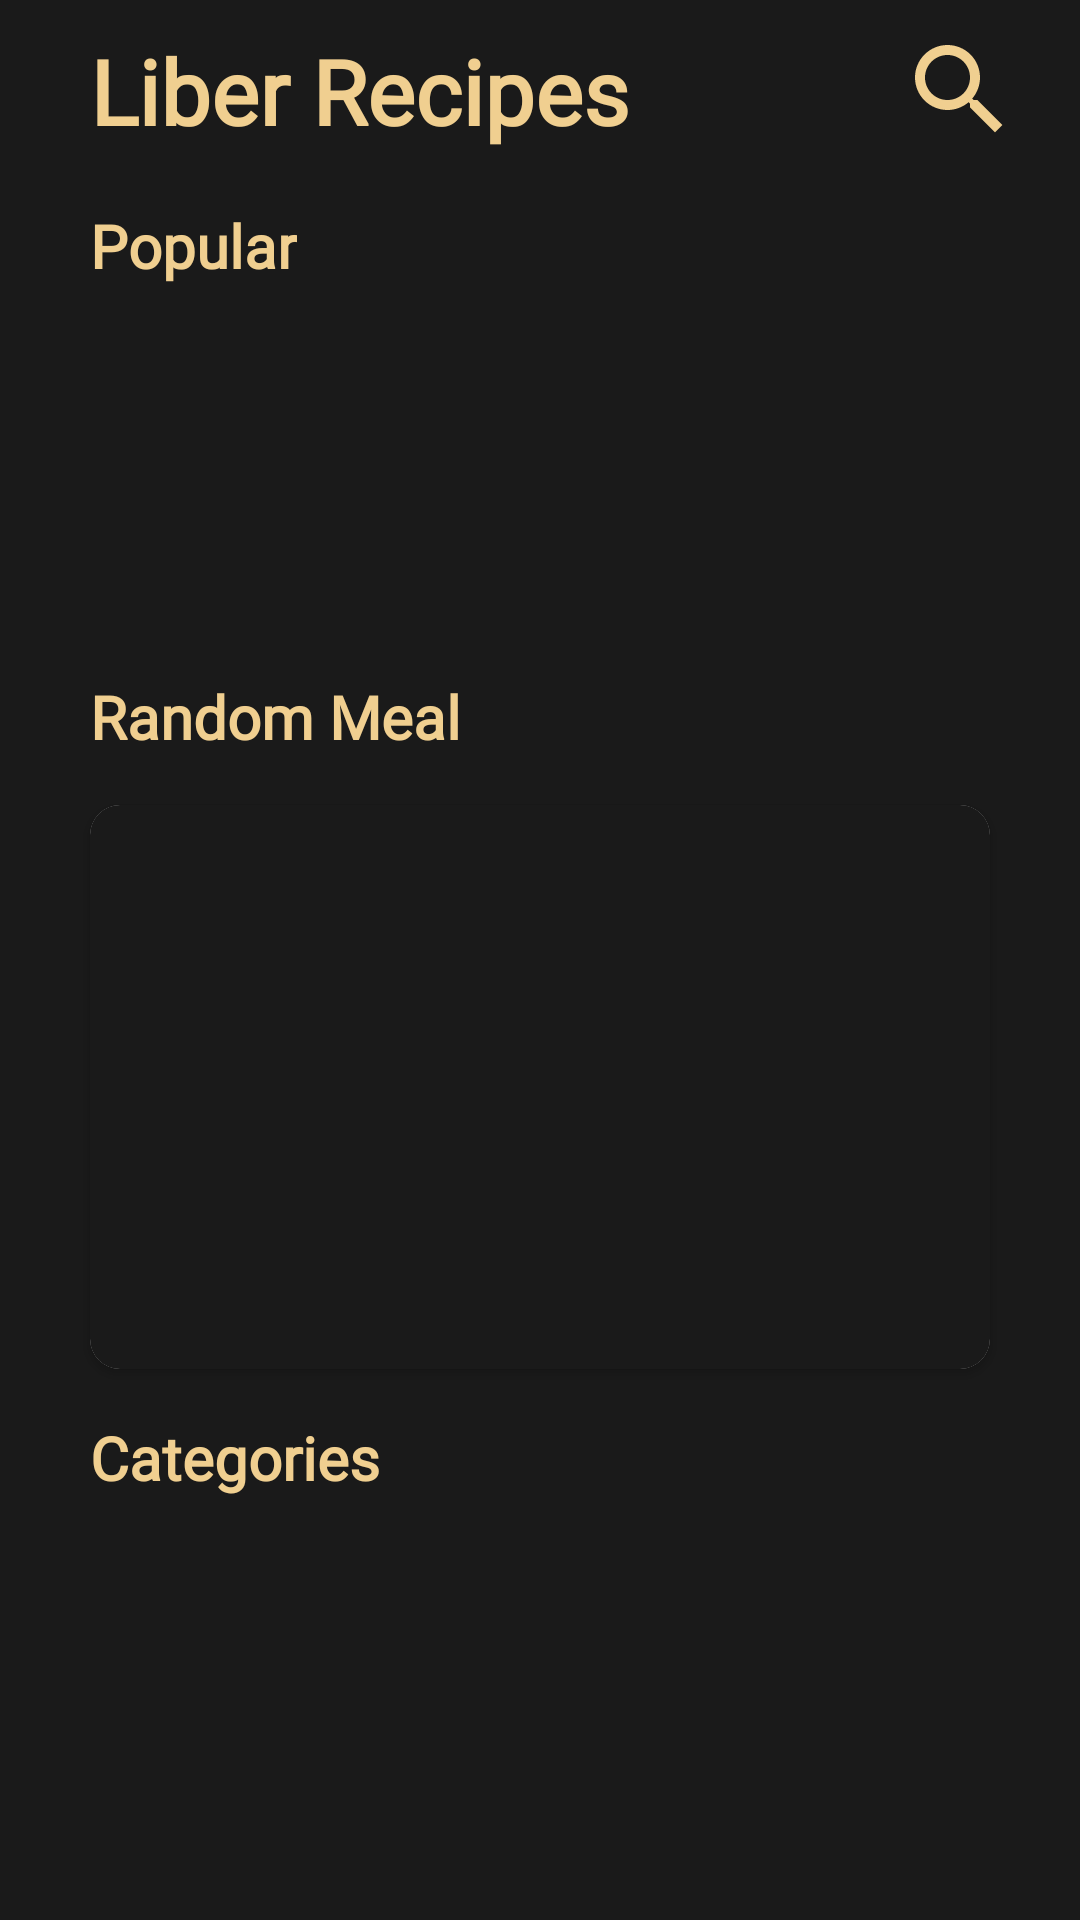

Icon bounding boxes for this 1080 x 1920 phone screenshot, format (x1, y1, x2, y2):
search: (915, 45, 1002, 132)
